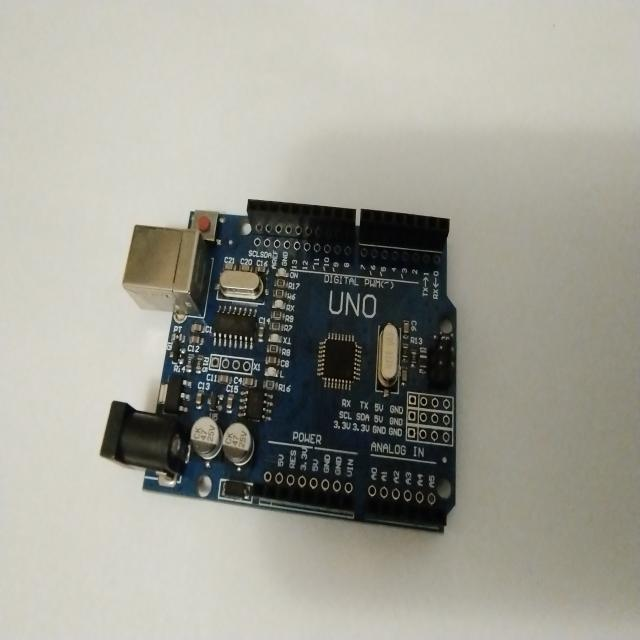arduino: (113, 192, 463, 534)
